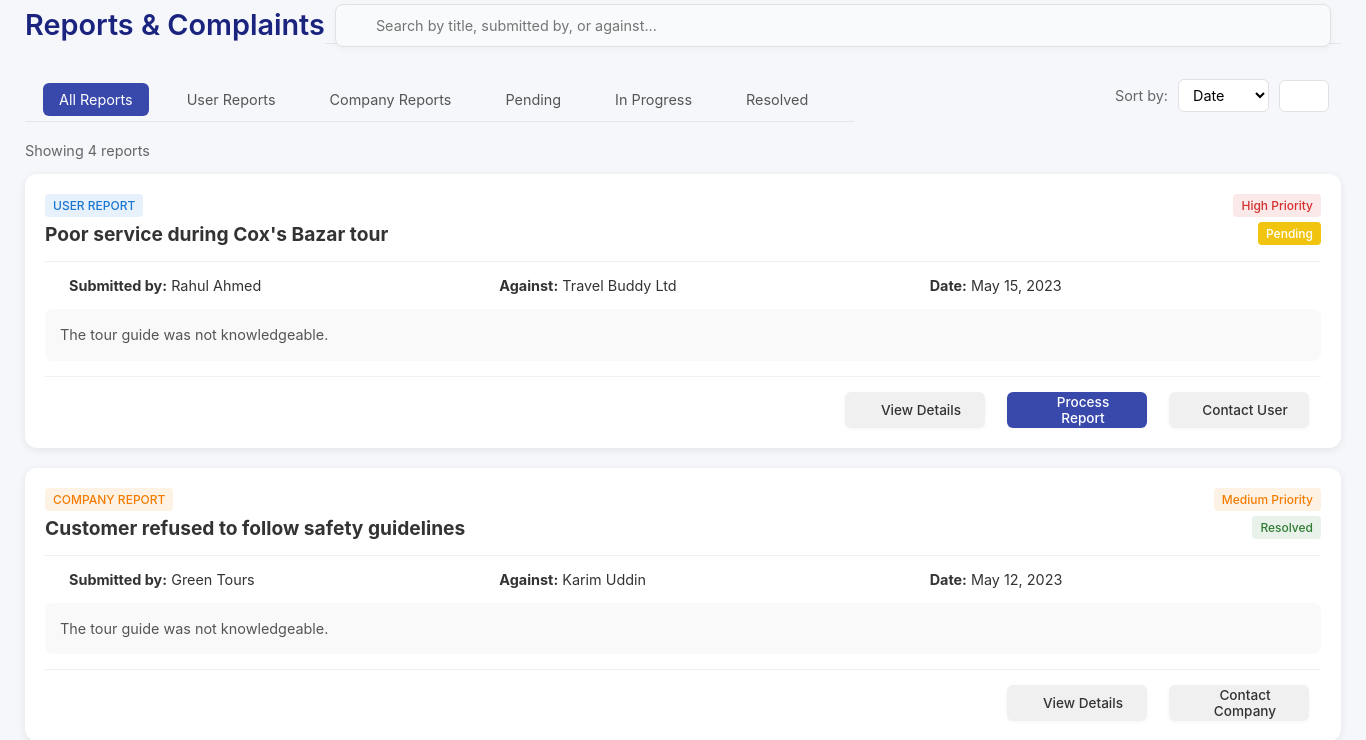
Scenario: resolving every pending report drains the pending tab
The width and height of the screenshot is (1366, 740).
What coordinates should you click on to do the following:
click the button "Process Report"
I would click on:
 (1077, 410)
Its box is [1007, 392, 1147, 428].
(page scrolled)
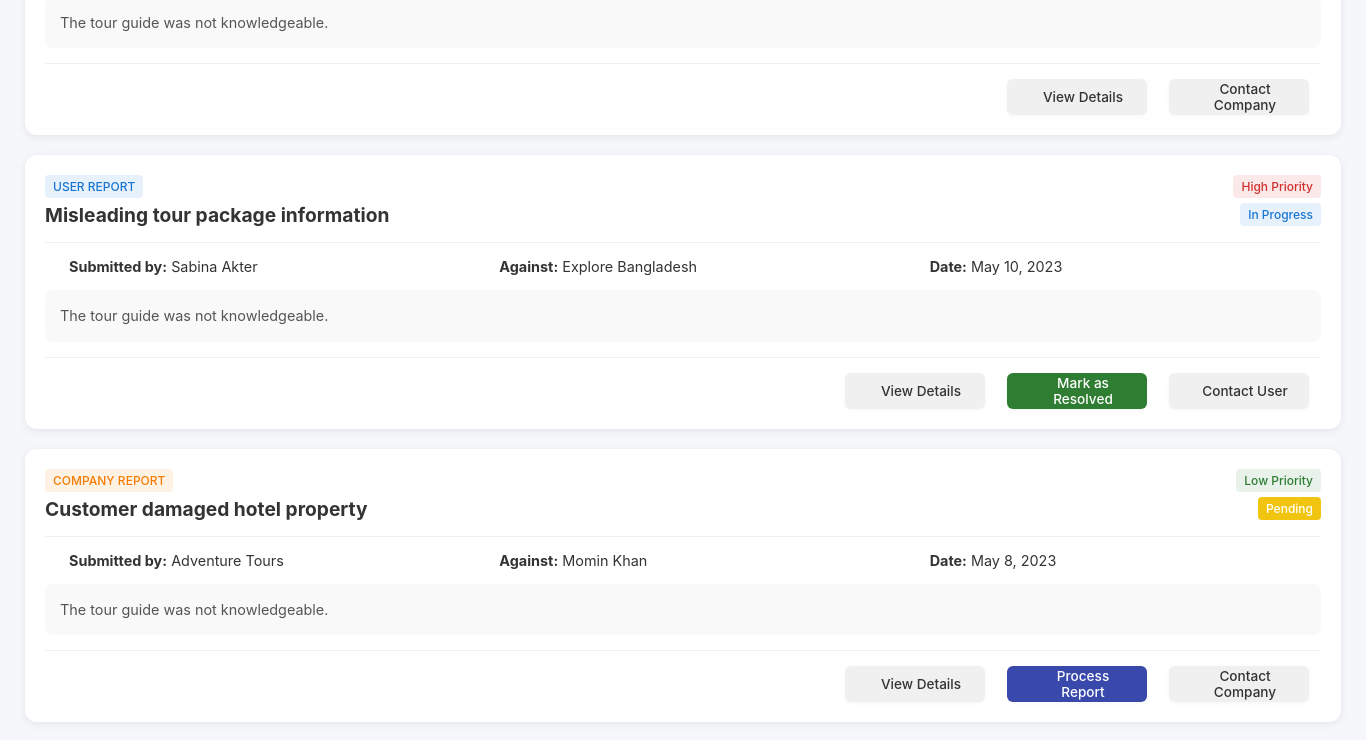
What coordinates should you click on to do the following:
click the button "Process Report"
I would click on:
 (1077, 684)
Its box is [1007, 666, 1147, 702].
(page scrolled)
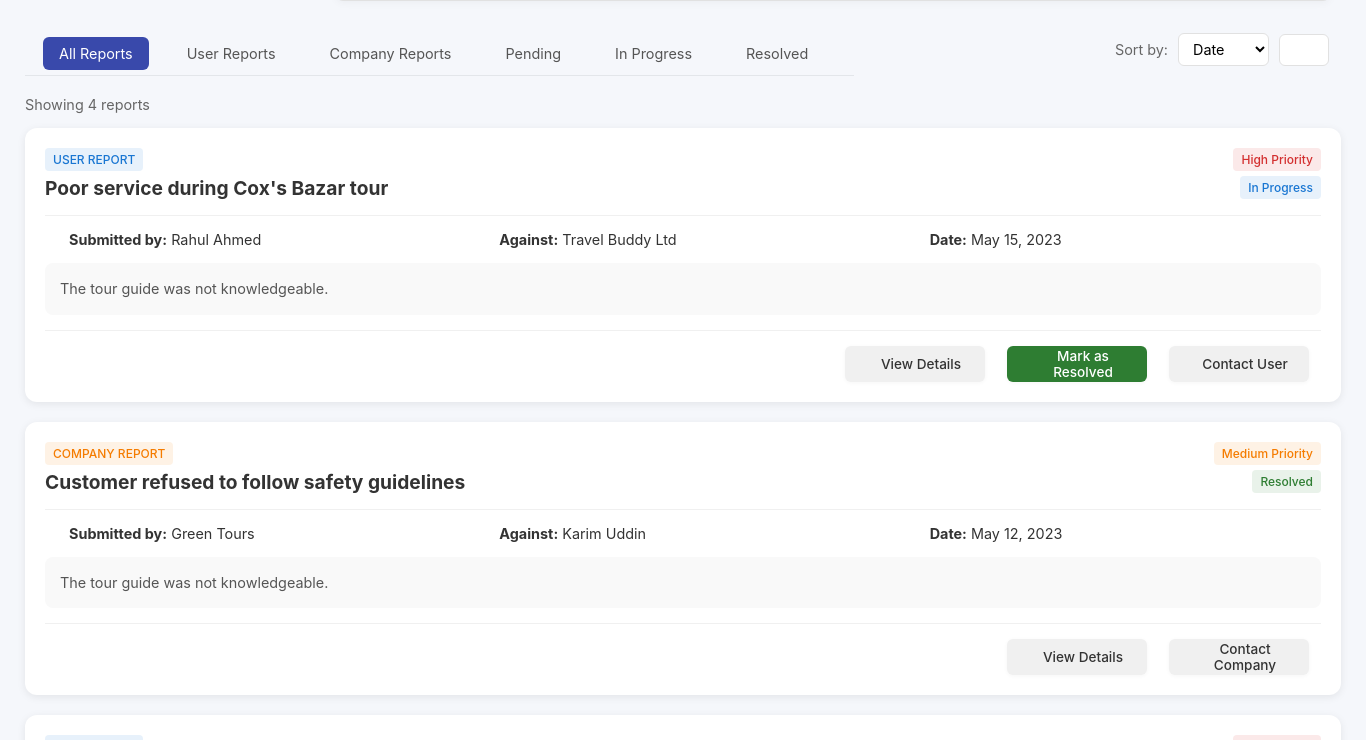
What coordinates should you click on to do the following:
click the button "Mark as Resolved"
I would click on:
 (1077, 364)
Its box is [1007, 346, 1147, 382].
(page scrolled)
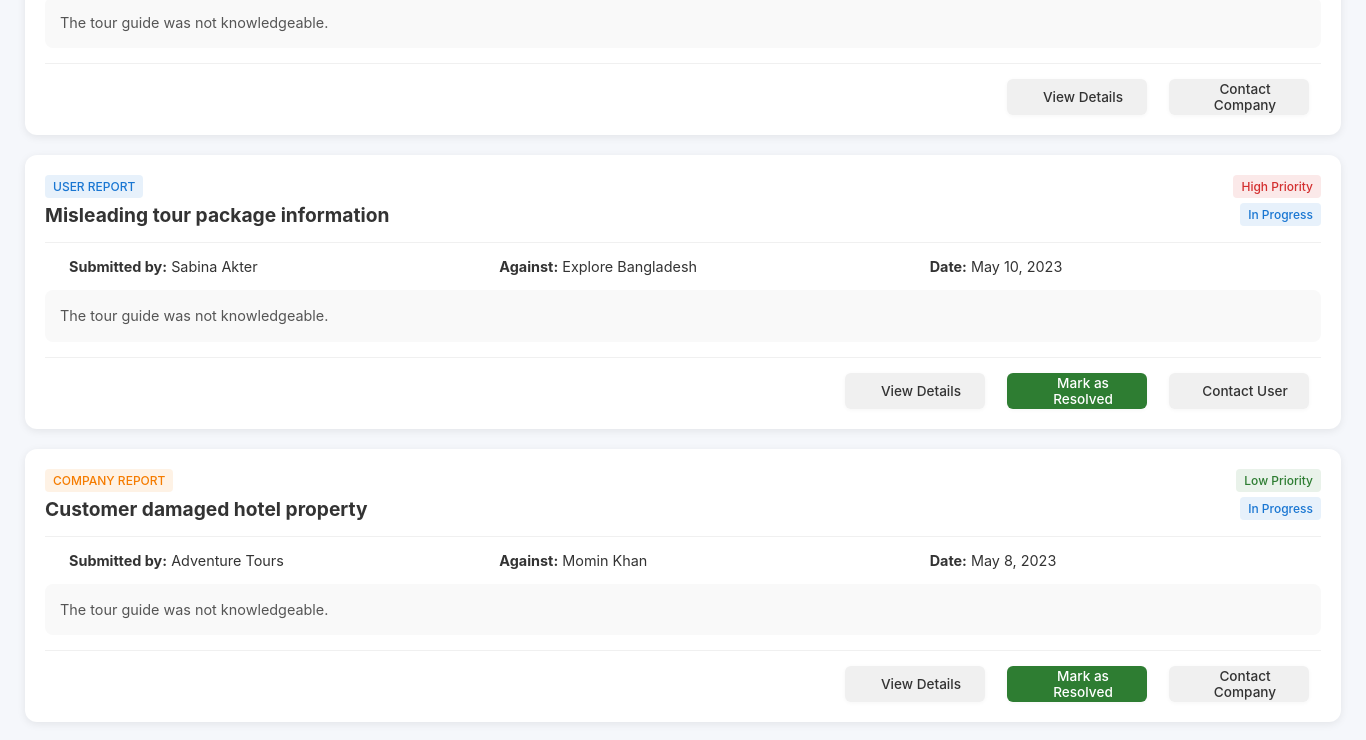
What coordinates should you click on to do the following:
click the button "Mark as Resolved" below "May 8, 2023"
I would click on:
 (1077, 684)
Its box is [1007, 666, 1147, 702].
(page scrolled)
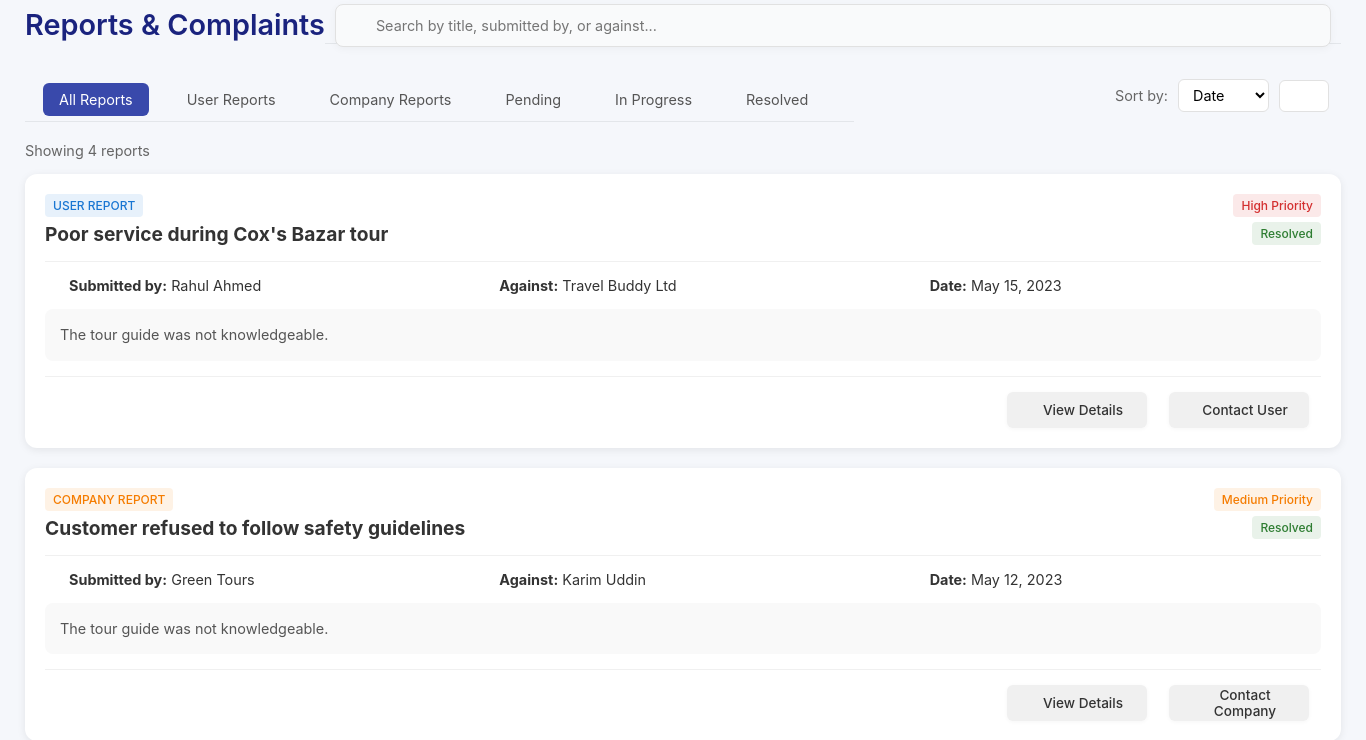
Check: the button "Mark as Resolved" is not shown
What coordinates should you click on to do the following:
click the button "Pending"
I would click on:
 (533, 100)
Its box is [489, 83, 577, 116].
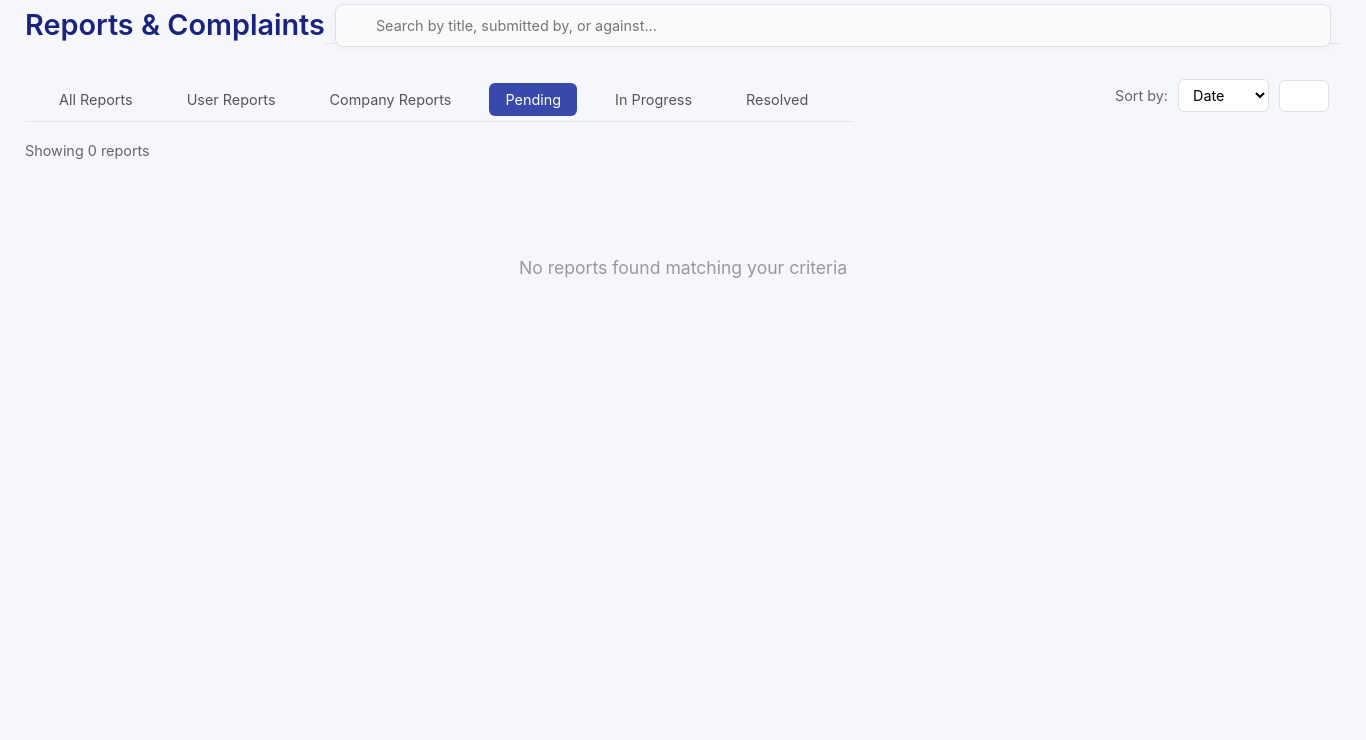
Check: the text "No reports found matching your criteria" is shown, box [519, 257, 847, 278]
